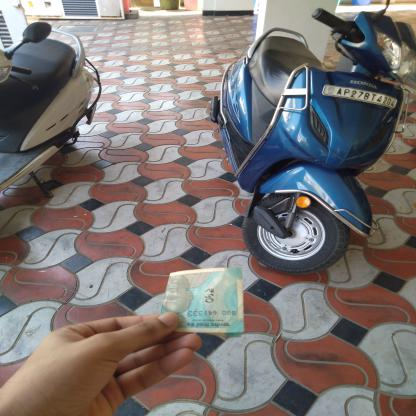New50Front: (166, 272, 241, 326)
